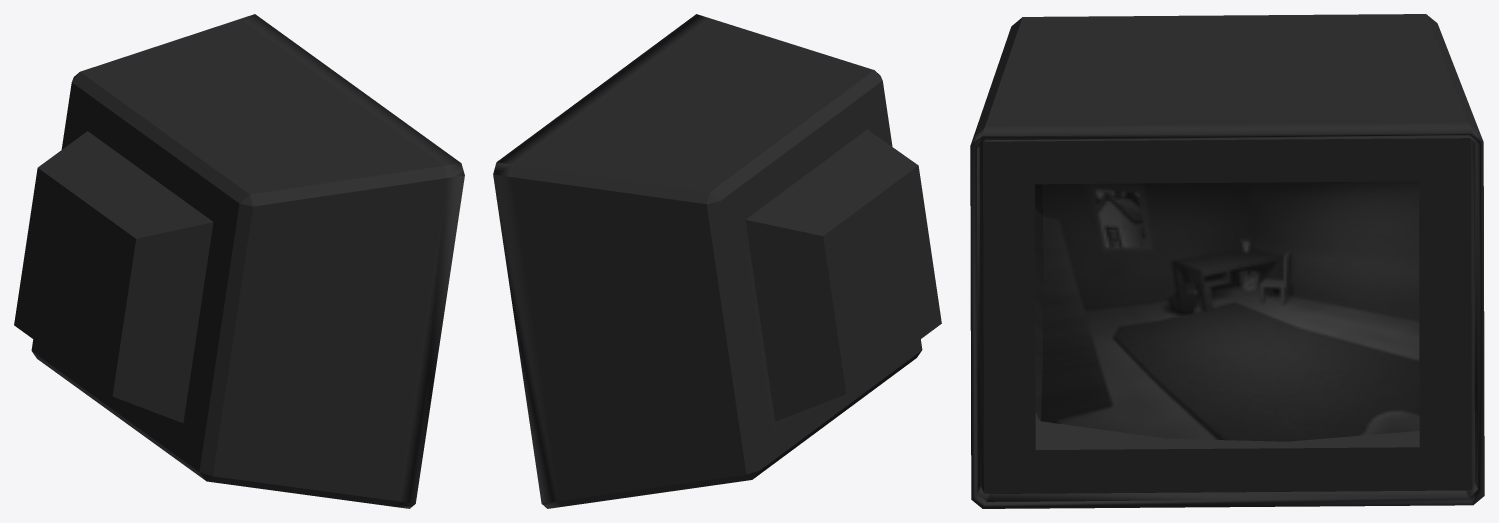
File: Tele2.fbx
3 renders of one model, left to right at view 1: azimuth 30°, elevation 25°; view 2: azimuth 150°, elevation 25°; view 3: azimuth 270°, elevation 25°, orthographic. The views are drawn at different scales.
Parts seen in each view (by area): view 1: Tele.002; view 2: Tele.002; view 3: Tele.002.
Part boxes in pixels (left/top/right/bottom): Tele.002: left=14, top=14, right=464, bottom=508; Tele.002: left=493, top=14, right=941, bottom=508; Tele.002: left=970, top=14, right=1484, bottom=508.
Size of the model in its own units: 47.07 by 50.98 by 58.12.
